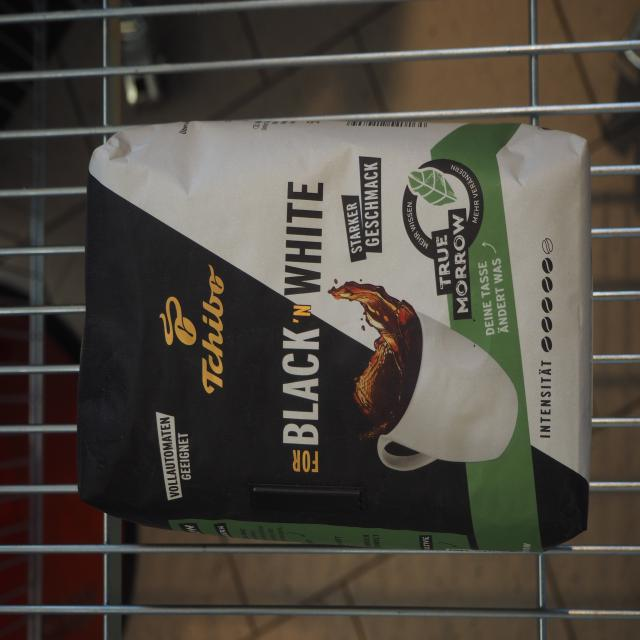BW Bohne: (74, 116, 594, 558)
